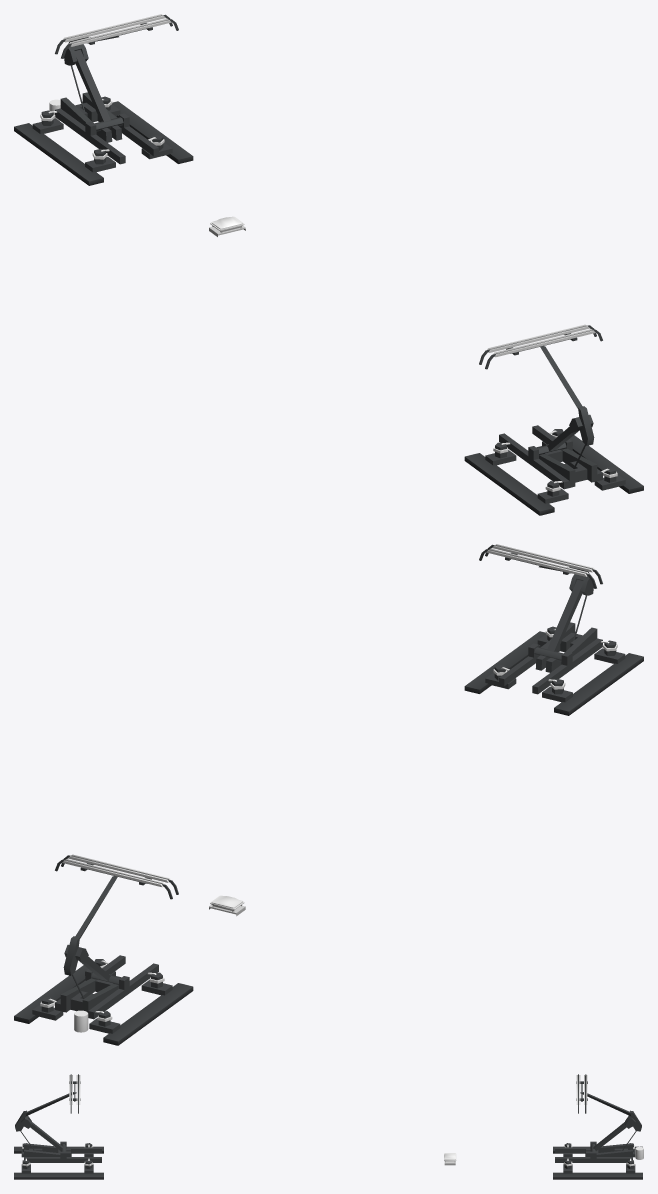
Rendered from E233_PANTA2.glb.
3 renders of one model, top to bottom at view 1: azimuth 30°, elevation 25°; view 2: azimuth 150°, elevation 25°; view 3: azimuth 270°, elevation 25°, orthographic. The views are drawn at different scales.
Visible parts, largest first — view 1: Mesh1; view 2: Mesh1; view 3: Mesh1.
Boxes of the visible parts, x1,y1,x2,y2 form: Mesh1: [14, 14, 643, 515]; Mesh1: [14, 544, 643, 1045]; Mesh1: [14, 1074, 643, 1179].
Bounding box in the file's own units: 4.29 × 4.4 × 33.25.
Materials: 4 (4 with a texture image).
